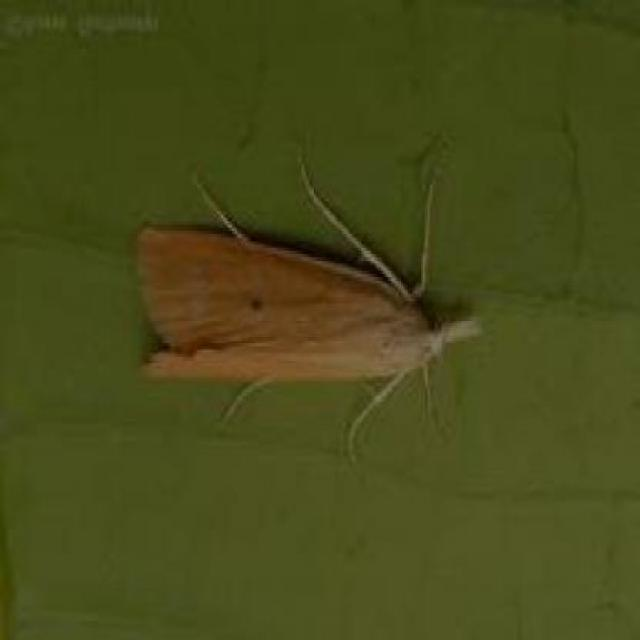stem-borer: (132, 157, 483, 475)
